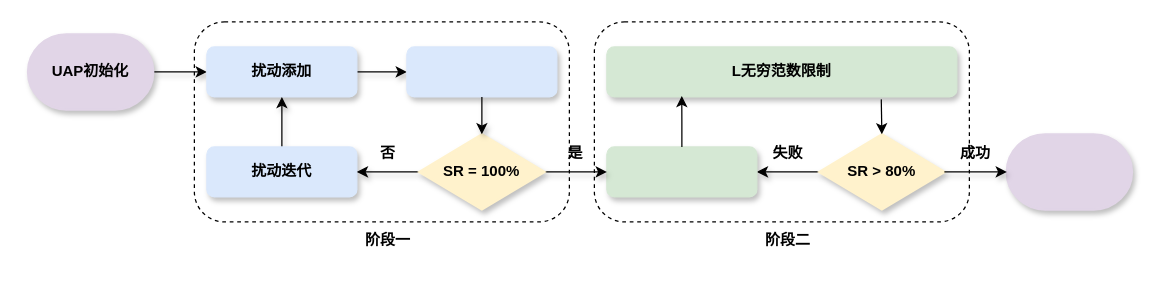
Some shapes in this 1161 by 290 pixel diagram are drawn without their labels. Each missing label, with the centre of its shape:
"ASR转录" goes at (482,73).
"UAP输出" goes at (1070,173).
"缩小扰动范围" goes at (682,173).
